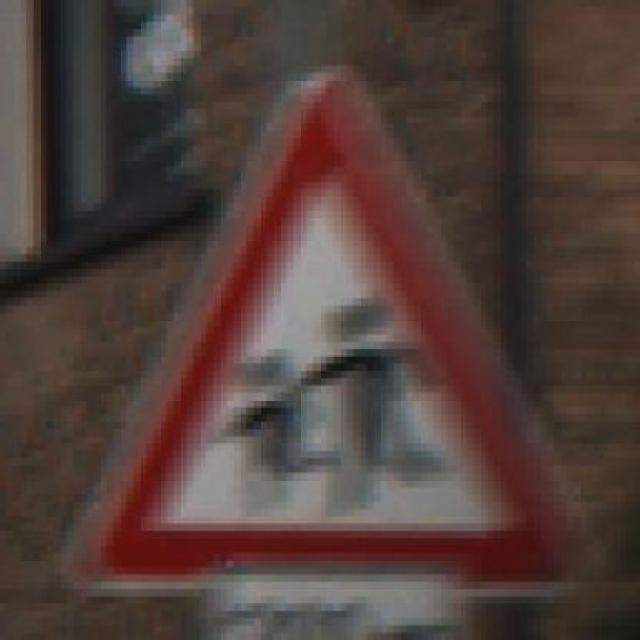Beware of children: (66, 58, 594, 612)
